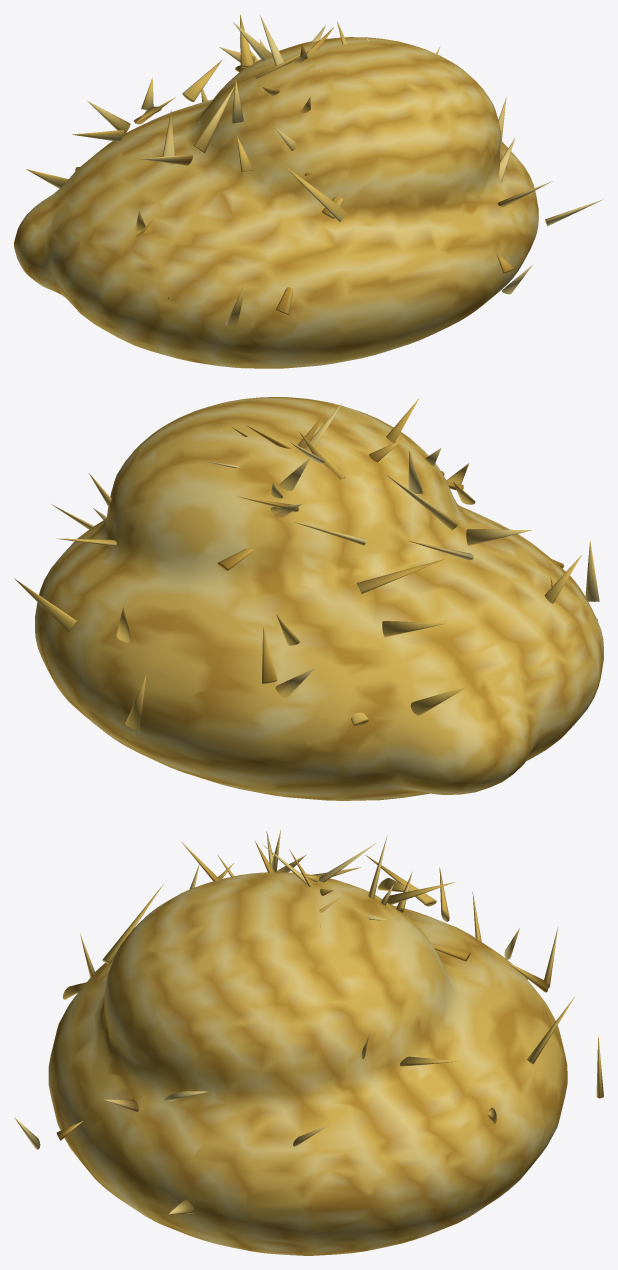
File: hay_pile.glb
The picture shows the model from 3 angles, top to bottom: view 1: azimuth 30°, elevation 25°; view 2: azimuth 150°, elevation 25°; view 3: azimuth 270°, elevation 25°; orthographic projection. The views are drawn at different scales.
Visible parts, largest first — view 1: hay_pile; view 2: hay_pile; view 3: hay_pile.
Boxes of the visible parts, bbox=[...] form: hay_pile: bbox=[14, 14, 602, 368]; hay_pile: bbox=[14, 397, 603, 800]; hay_pile: bbox=[14, 830, 603, 1255].
Bounding box in the file's own units: 1.06 × 0.6288 × 0.9442.
